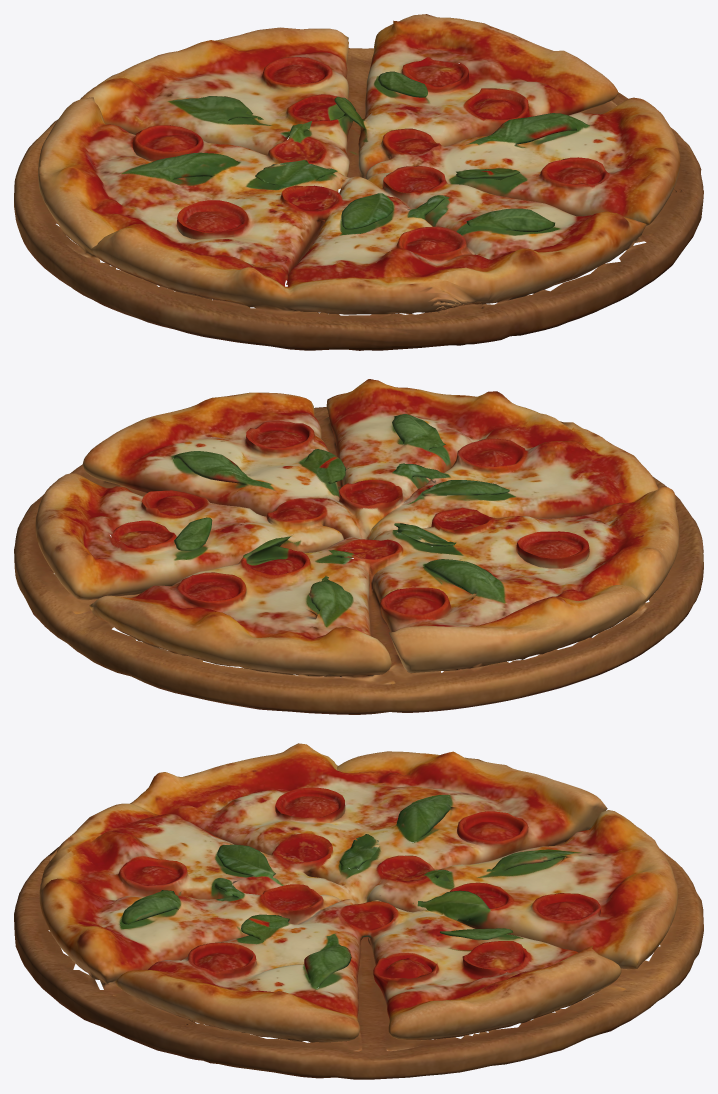
The model's file is pepperonipizza.glb.
The picture shows the model from 3 angles, top to bottom: view 1: azimuth 30°, elevation 25°; view 2: azimuth 150°, elevation 25°; view 3: azimuth 270°, elevation 25°; orthographic projection.
Parts seen in each view (by area): view 1: tripo_node_b654eb42; view 2: tripo_node_b654eb42; view 3: tripo_node_b654eb42.
Part boxes in pixels (x1,y1,x2,y2): tripo_node_b654eb42: (14, 14, 703, 350); tripo_node_b654eb42: (14, 379, 703, 714); tripo_node_b654eb42: (14, 743, 703, 1079).
Bounding box in the file's own units: 99.86 × 10.39 × 99.63.
Materials: 1 (1 with a texture image).
